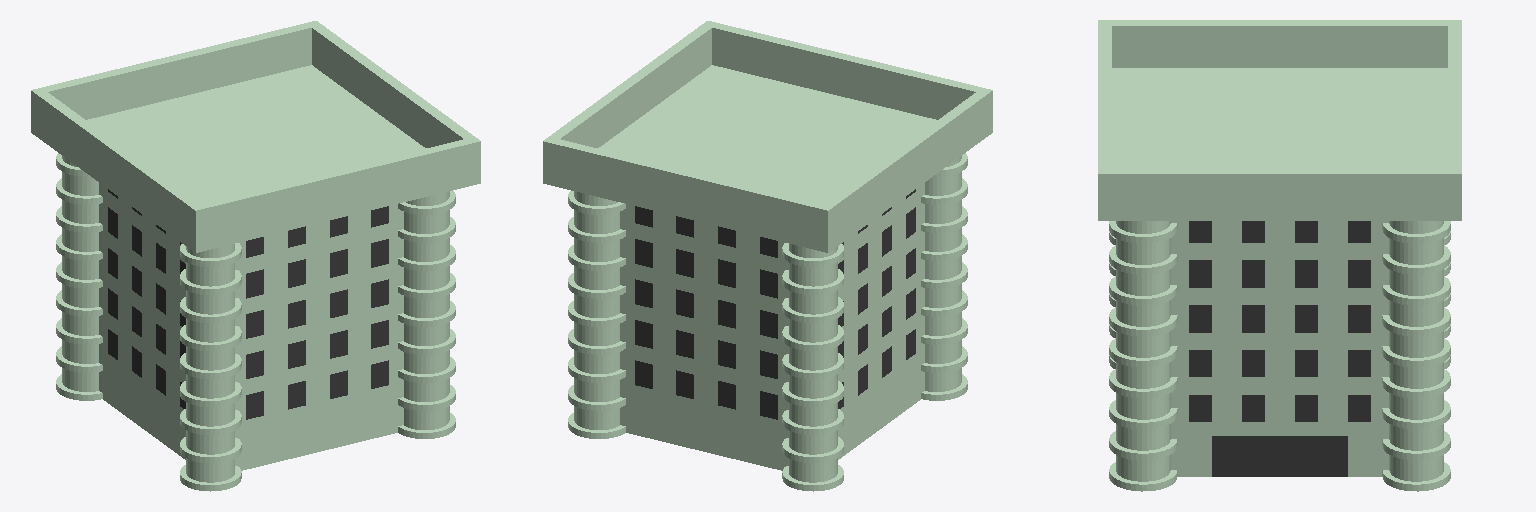
URDF robot description (building_3):
<?xml version="1.0"?> 

<!-- Copyright 2023 [author] -->

<!-- Licensed under the Apache License, Version 2.0 (the "License"); -->
<!-- you may not use this file except in compliance with the License. -->
<!-- You may obtain a copy of the License at -->

<!--     http://www.apache.org/licenses/LICENSE-2.0 -->

<!-- Unless required by applicable law or agreed to in writing, software -->
<!-- distributed under the License is distributed on an "AS IS" BASIS, -->
<!-- WITHOUT WARRANTIES OR CONDITIONS OF ANY KIND, either express or implied. -->
<!-- See the License for the specific language governing permissions and -->
<!-- limitations under the License. -->

<!-- Authors: [author], [author] -->

<robot name="building_3">
    <link name="building_3">
        <visual>
            <origin xyz="0 0 0" rpy="0 0 0" />
            <geometry>
                <mesh filename='meshes/building_3.stl' scale='0.15 0.15 0.1'/>
            </geometry>
            <material name="greyblue">
                <color rgba="0.8 0.9 0.8 1"/>
            </material>
        </visual>
        <collision>
            <origin xyz="0 0 0" rpy="0 0 0" />
            <geometry>
                <mesh filename='meshes/building_3.stl' scale='0.15 0.15 0.1'/>
            </geometry>
        </collision>
        <inertial>
            <mass value="10"/>
            <inertia ixx="0.4" ixy="0.0" ixz="0.0" iyy="0.4" iyz="0.0" izz="0.2" />
        </inertial>
    </link>
    <link name="windows">
        <visual>
            <origin xyz="0 0 0" rpy="0 0 0" />
            <geometry>
                <mesh filename='meshes/building_3windows.stl' scale='0.15 0.15 0.1'/>
            </geometry>
            <material name="black">
                <color rgba="0.3 0.3 0.3 1"/>
            </material>
        </visual>
        <collision>
            <origin xyz="0 0 0" rpy="0 0 0" />
            <geometry>
                <mesh filename='meshes/building_3windows.stl' scale='0.15 0.15 0.1'/>
            </geometry>
        </collision>
        <inertial>
            <mass value="10"/>
            <inertia ixx="0.4" ixy="0.0" ixz="0.0" iyy="0.4" iyz="0.0" izz="0.2" />
        </inertial>
    </link>
    <joint name="window" type="fixed">
        <origin rpy="0 0 0" xyz="0 0 0"/>
        <parent link="building_3"/>
        <child link="windows"/>
    </joint>
    <link name="doors">
        <visual>
            <origin xyz="0 0 0" rpy="0 0 0" />
            <geometry>
                <mesh filename='meshes/building_3door.stl' scale='0.15 0.15 0.1'/>
            </geometry>
            <material name="black">
                <color rgba="0.3 0.3 0.3 1"/>
            </material>
        </visual>
        <collision>
            <origin xyz="0 0 0" rpy="0 0 0" />
            <geometry>
                <mesh filename='meshes/building_3door.stl' scale='0.15 0.15 0.1'/>
            </geometry>
        </collision>
        <inertial>
            <mass value="10"/>
            <inertia ixx="0.4" ixy="0.0" ixz="0.0" iyy="0.4" iyz="0.0" izz="0.2" />
        </inertial>
    </link>
    <joint name="door" type="fixed">
        <origin rpy="0 0 1.571" xyz="0 0 0"/>
        <parent link="building_3"/>
        <child link="doors"/>
    </joint>
</robot>

--- What the picture shows (computed from the rendered views, not written in the file) ---
3 views of the same robot in one strip: view 1: azimuth 30°, elevation 25°; view 2: azimuth 150°, elevation 25°; view 3: azimuth 270°, elevation 25° (orthographic).
Robot: building_3 — 3 links, 2 joints (2 fixed); root link building_3; default pose: every joint at zero.
Visible links, largest first — view 1: building_3, windows; view 2: building_3, windows; view 3: building_3, windows, doors.
Boxes of the visible links, x1=… form: building_3: x1=31, y1=21, x2=480, y2=491; windows: x1=108, y1=189, x2=388, y2=419; building_3: x1=543, y1=21, x2=992, y2=491; windows: x1=635, y1=189, x2=915, y2=419; building_3: x1=1098, y1=20, x2=1461, y2=491; windows: x1=1189, y1=221, x2=1370, y2=421; doors: x1=1212, y1=436, x2=1347, y2=476.
Size in the robot's own frame: 12 by 12 by 11.7 metres.
Meshes: 3 distinct files referenced, 3 mesh visuals loaded (3 binary STL).
